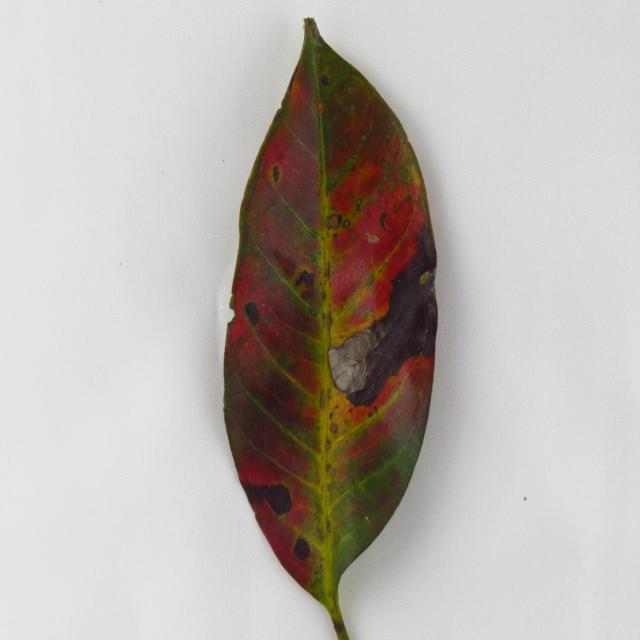DeficienciaNutricional-Fosforo: (224, 20, 438, 638)
